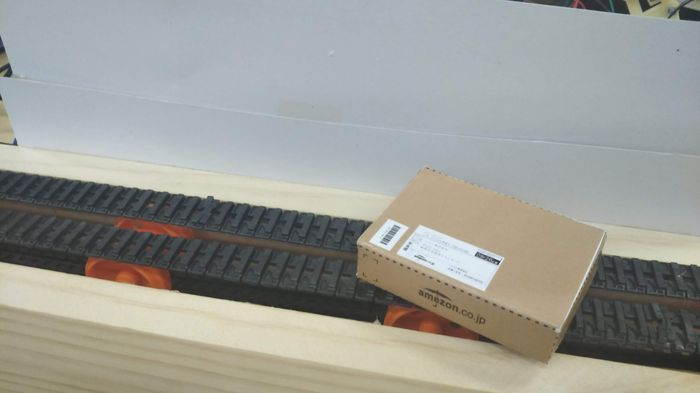box2: (354, 161, 616, 365)
